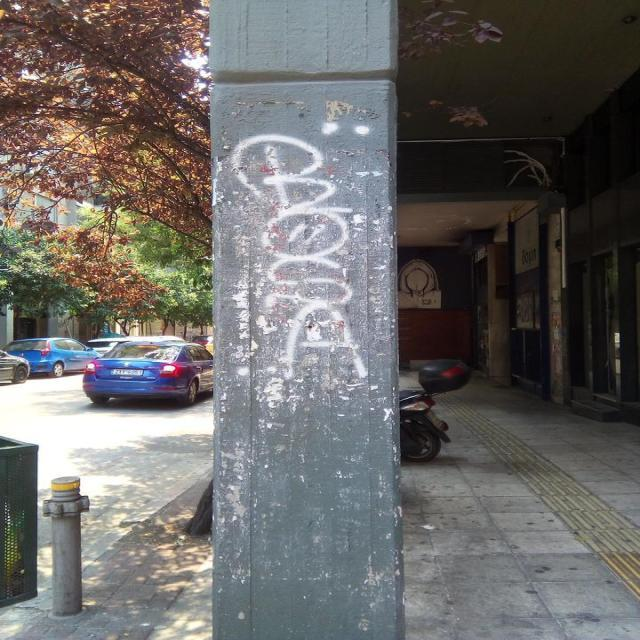nonspitting: (231, 134, 369, 378)
